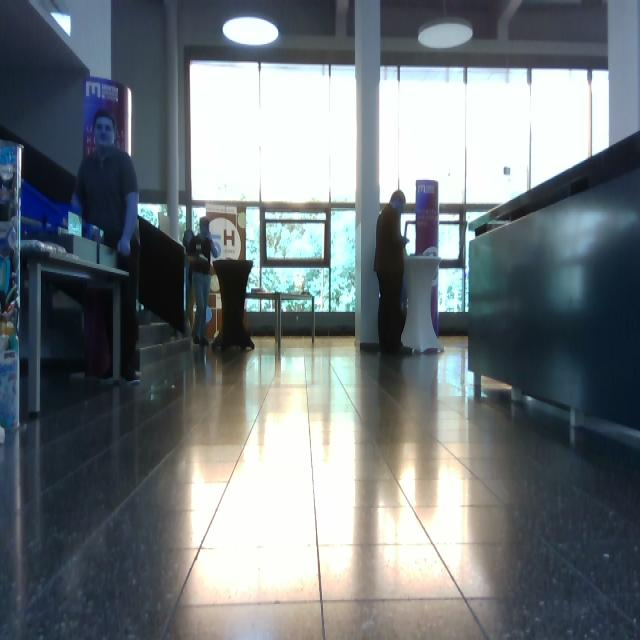light bulb: (222, 15, 280, 47), (418, 17, 473, 49), (51, 12, 72, 37)
person: (73, 109, 142, 385), (374, 190, 412, 356), (188, 217, 221, 346)
pillar: (354, 1, 381, 349)
tiled floor: (2, 331, 639, 639)
window: (188, 57, 357, 314)
